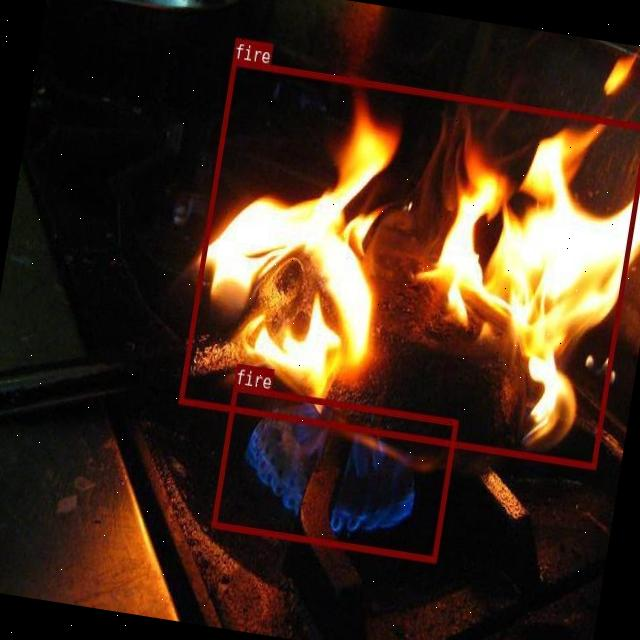fire: (178, 59, 640, 468), (212, 383, 458, 562)
